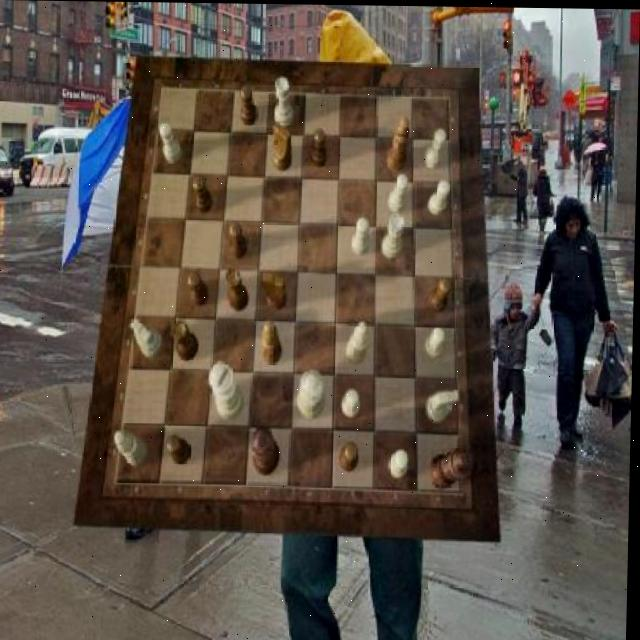bishop: (388, 115, 412, 170), (263, 318, 284, 364)
black-bishop: (432, 447, 477, 489)
black-king: (274, 120, 295, 171), (264, 271, 289, 309)
black-knight: (188, 270, 212, 305), (430, 275, 453, 311), (193, 175, 214, 212), (169, 436, 194, 465), (230, 221, 249, 259), (240, 86, 258, 126), (311, 128, 329, 167), (343, 441, 361, 470)
black-pawn: (252, 425, 283, 476)
black-queen: (172, 319, 200, 361), (227, 267, 251, 311)
black-rook: (116, 431, 151, 467), (348, 319, 371, 362)
white-bishop: (210, 359, 246, 418)
white-king: (132, 319, 166, 359), (428, 388, 462, 422)
white-knight: (160, 122, 184, 162), (390, 172, 411, 211), (425, 128, 446, 167), (429, 179, 452, 214), (426, 325, 447, 359), (353, 216, 371, 254), (392, 449, 412, 477), (344, 389, 362, 417)
white-pawn: (297, 368, 327, 419)
white-queen: (383, 212, 407, 258), (275, 77, 295, 126)
